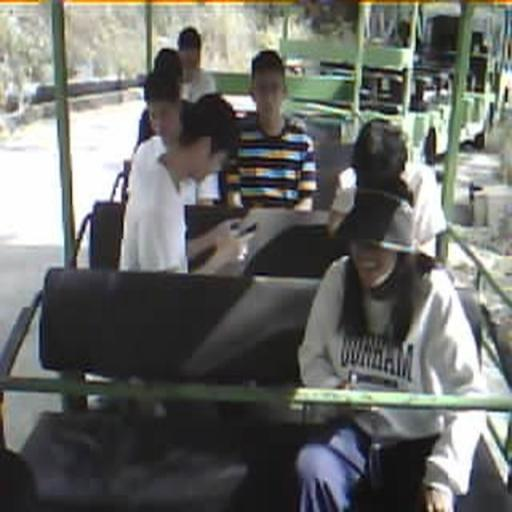persona: (294, 169, 488, 510), (120, 92, 244, 274), (327, 116, 447, 259), (220, 48, 320, 212), (126, 68, 218, 202), (136, 49, 198, 147), (178, 26, 216, 101)
